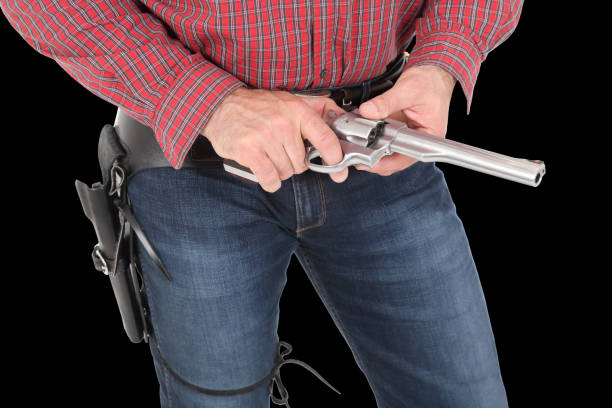gun: (222, 112, 548, 189)
